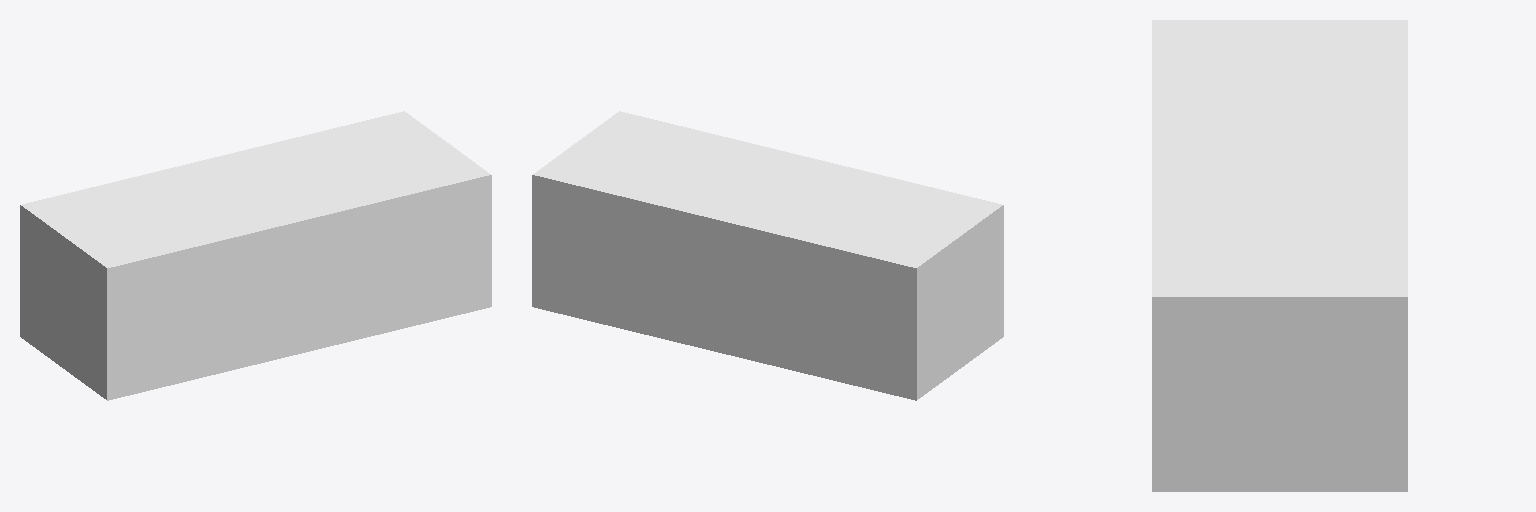
URDF robot description (conveyor_box):
<?xml version="1.0" ?>
<robot name="conveyor_box">

  <link name="base_link" />

  <link name="conveyor_box_body">
    <visual>
      <origin xyz="0 0 0" rpy="0 0 0"/>
      <geometry>
        <box size="2.55 1.0 0.84"/>
      </geometry>
      <material name="default">
        <color rgba="1.0 1.0 1.0 1" />
      </material>
    </visual>
    <collision>
      <origin xyz="0 0 0" rpy="0 0 0"/>
      <geometry>
        <box size="2.55 1.0 0.84"/>
      </geometry>
    </collision>
  </link>
  <joint name="conveyor_box" type="fixed">
    <parent link="base_link" />
    <child link="conveyor_box_body" />
    <origin rpy="0.0 0.0 0" xyz="0.0 0.0 0.0" />
  </joint>
</robot>

--- Render facts (derived) ---
The picture shows the robot from 3 angles, left to right: view 1: azimuth 30°, elevation 25°; view 2: azimuth 150°, elevation 25°; view 3: azimuth 270°, elevation 25°; orthographic projection.
Model conveyor_box with 2 links and 1 joints (1 fixed), rooted at base_link, posed every joint at zero.
Visible links, largest first — view 1: conveyor_box_body; view 2: conveyor_box_body; view 3: conveyor_box_body.
Boxes of the visible links, x1,y1,x2,y2 form: conveyor_box_body: (20,111,491,400); conveyor_box_body: (532,111,1003,400); conveyor_box_body: (1152,20,1407,491).
Size in the robot's own frame: 2.55 by 1 by 0.84 metres.
Geometry: primitives only (box / cylinder / sphere), no mesh files.